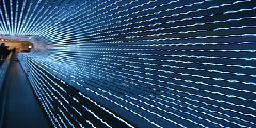LED: (44, 2, 256, 125)
